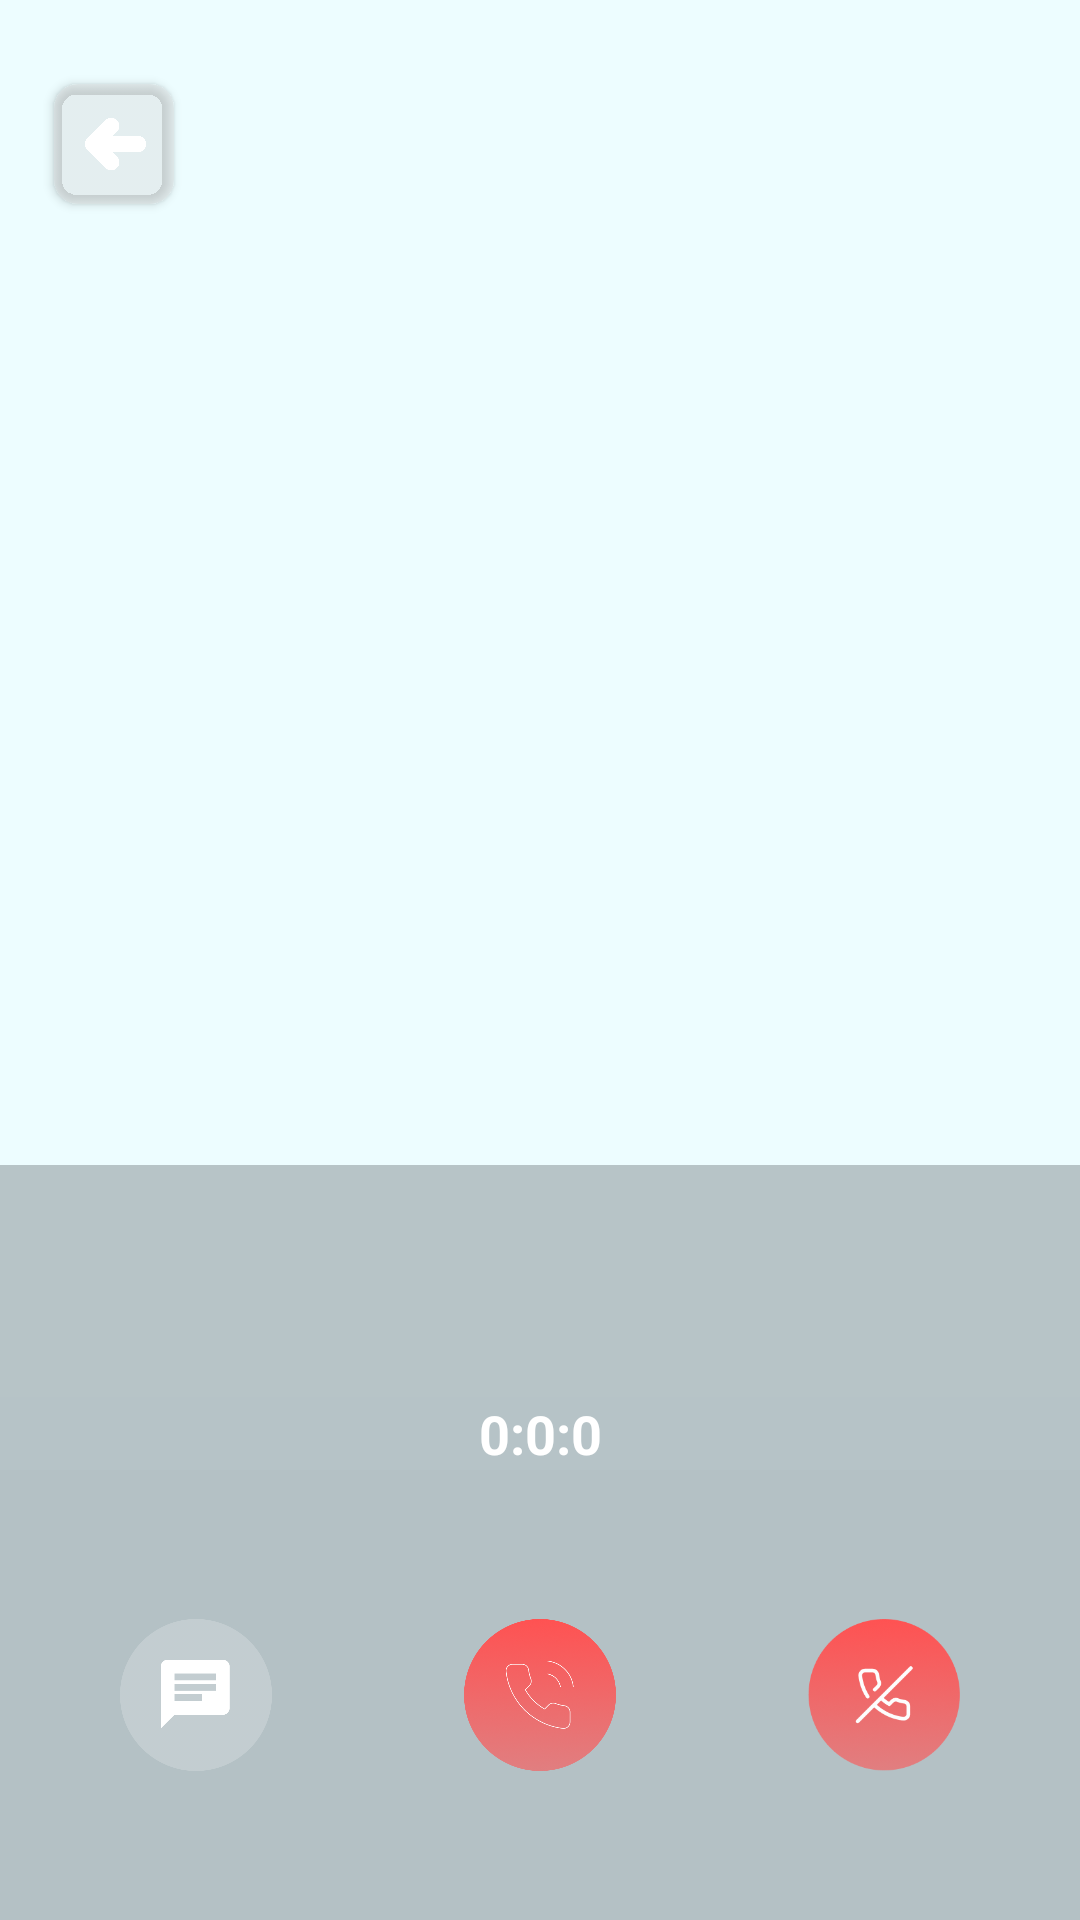

Locate icon controls on the screen. Image size 1080px x 1920px, boxes as region(x1, y1, x2, y2).
cancel call: region(808, 1619, 960, 1770)
chat circle: region(161, 1660, 230, 1728)
trans back: region(54, 84, 174, 204)
